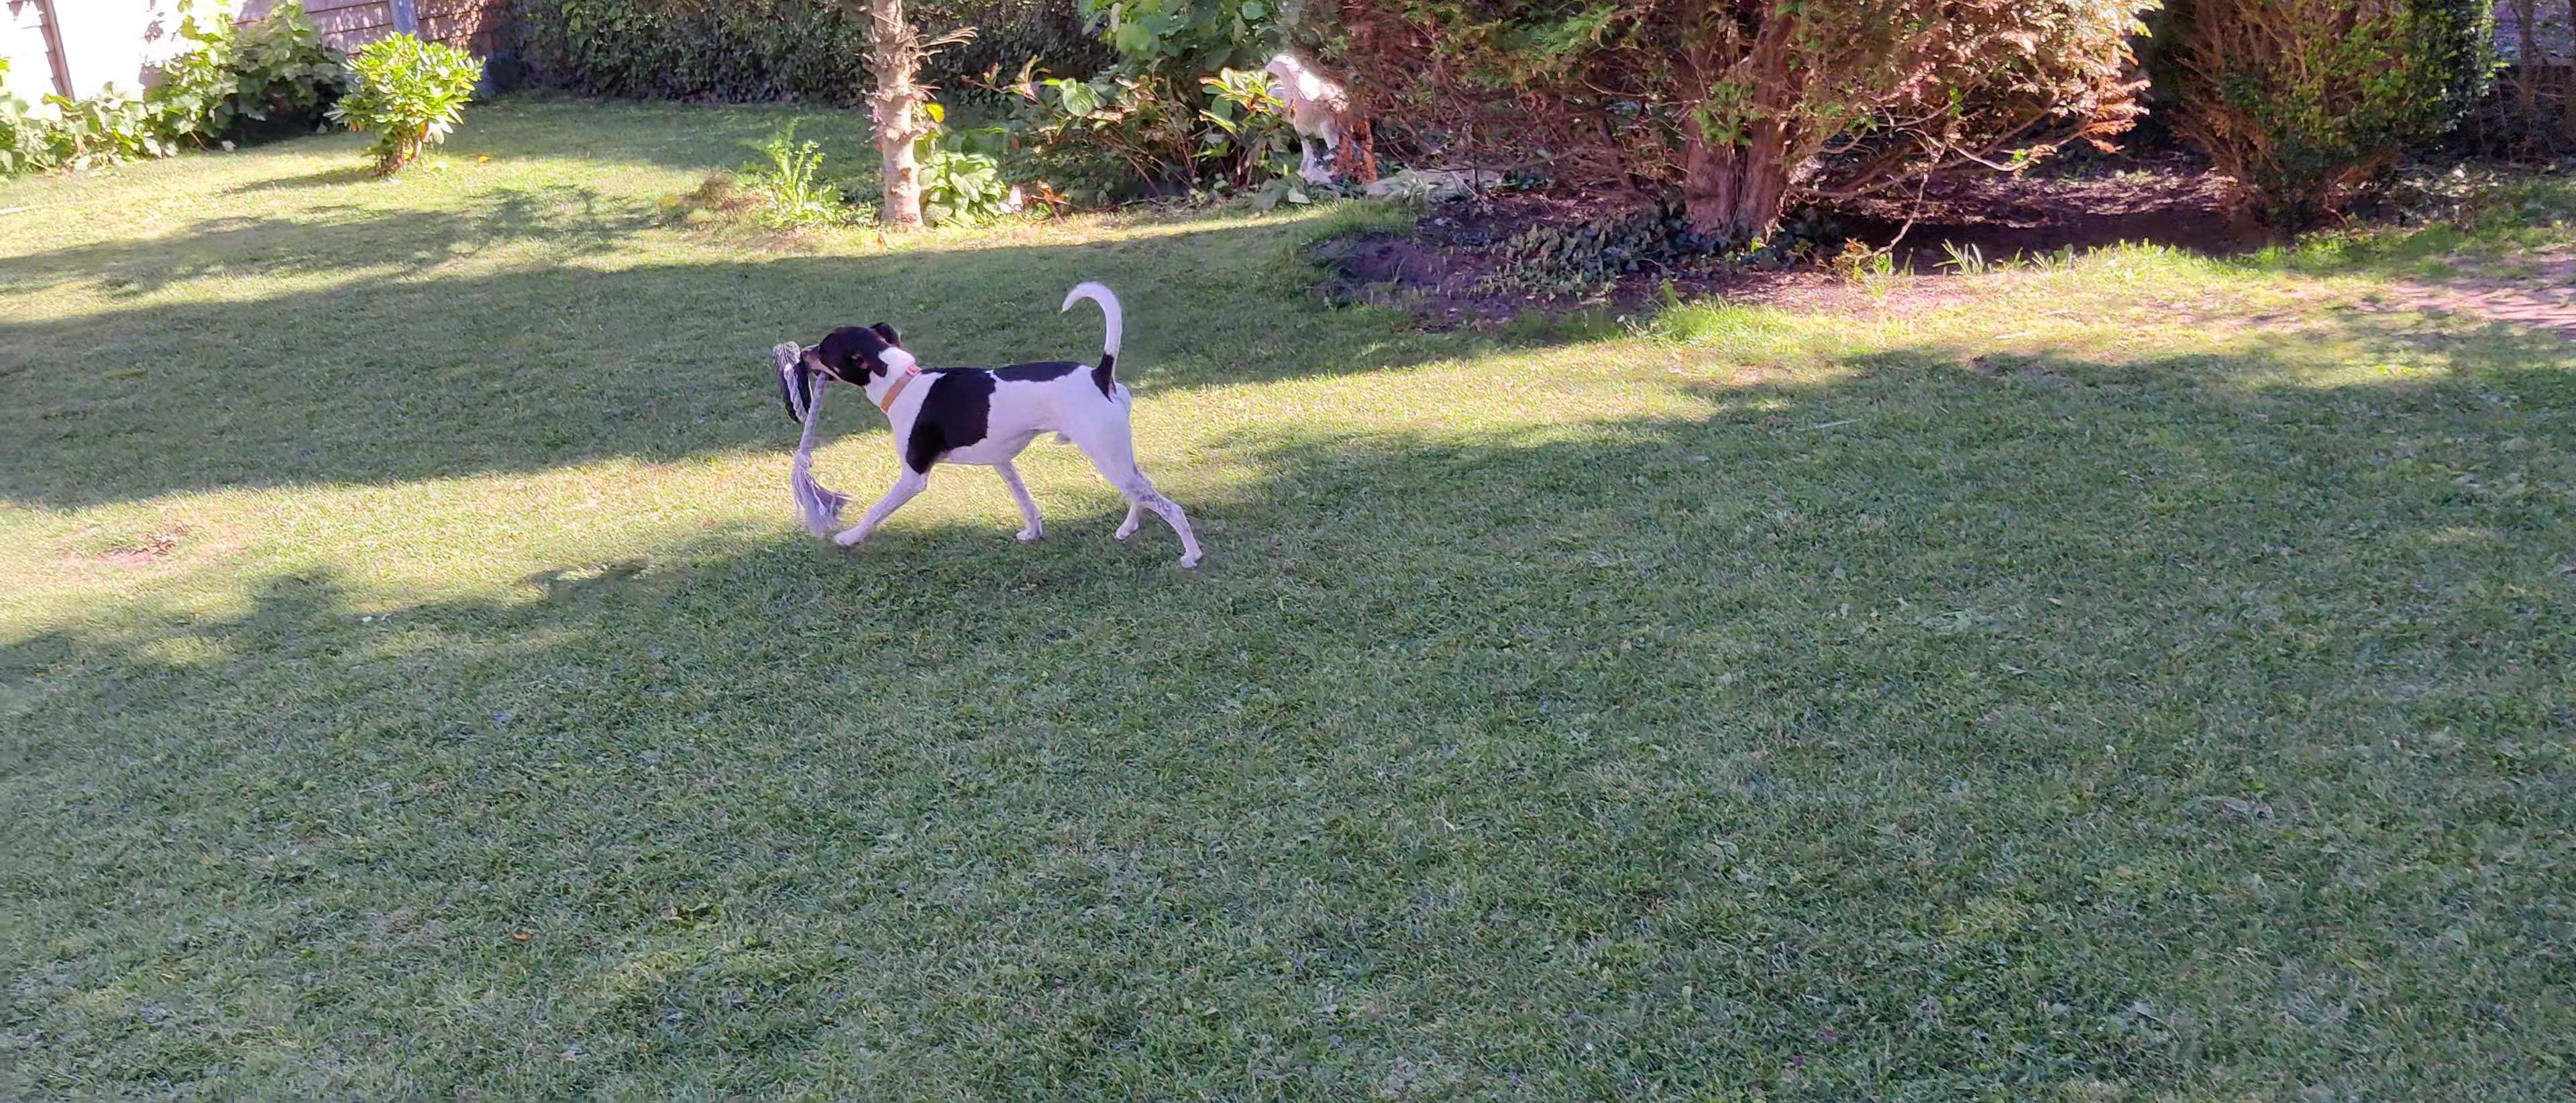Dog: (797, 266, 1211, 569)
